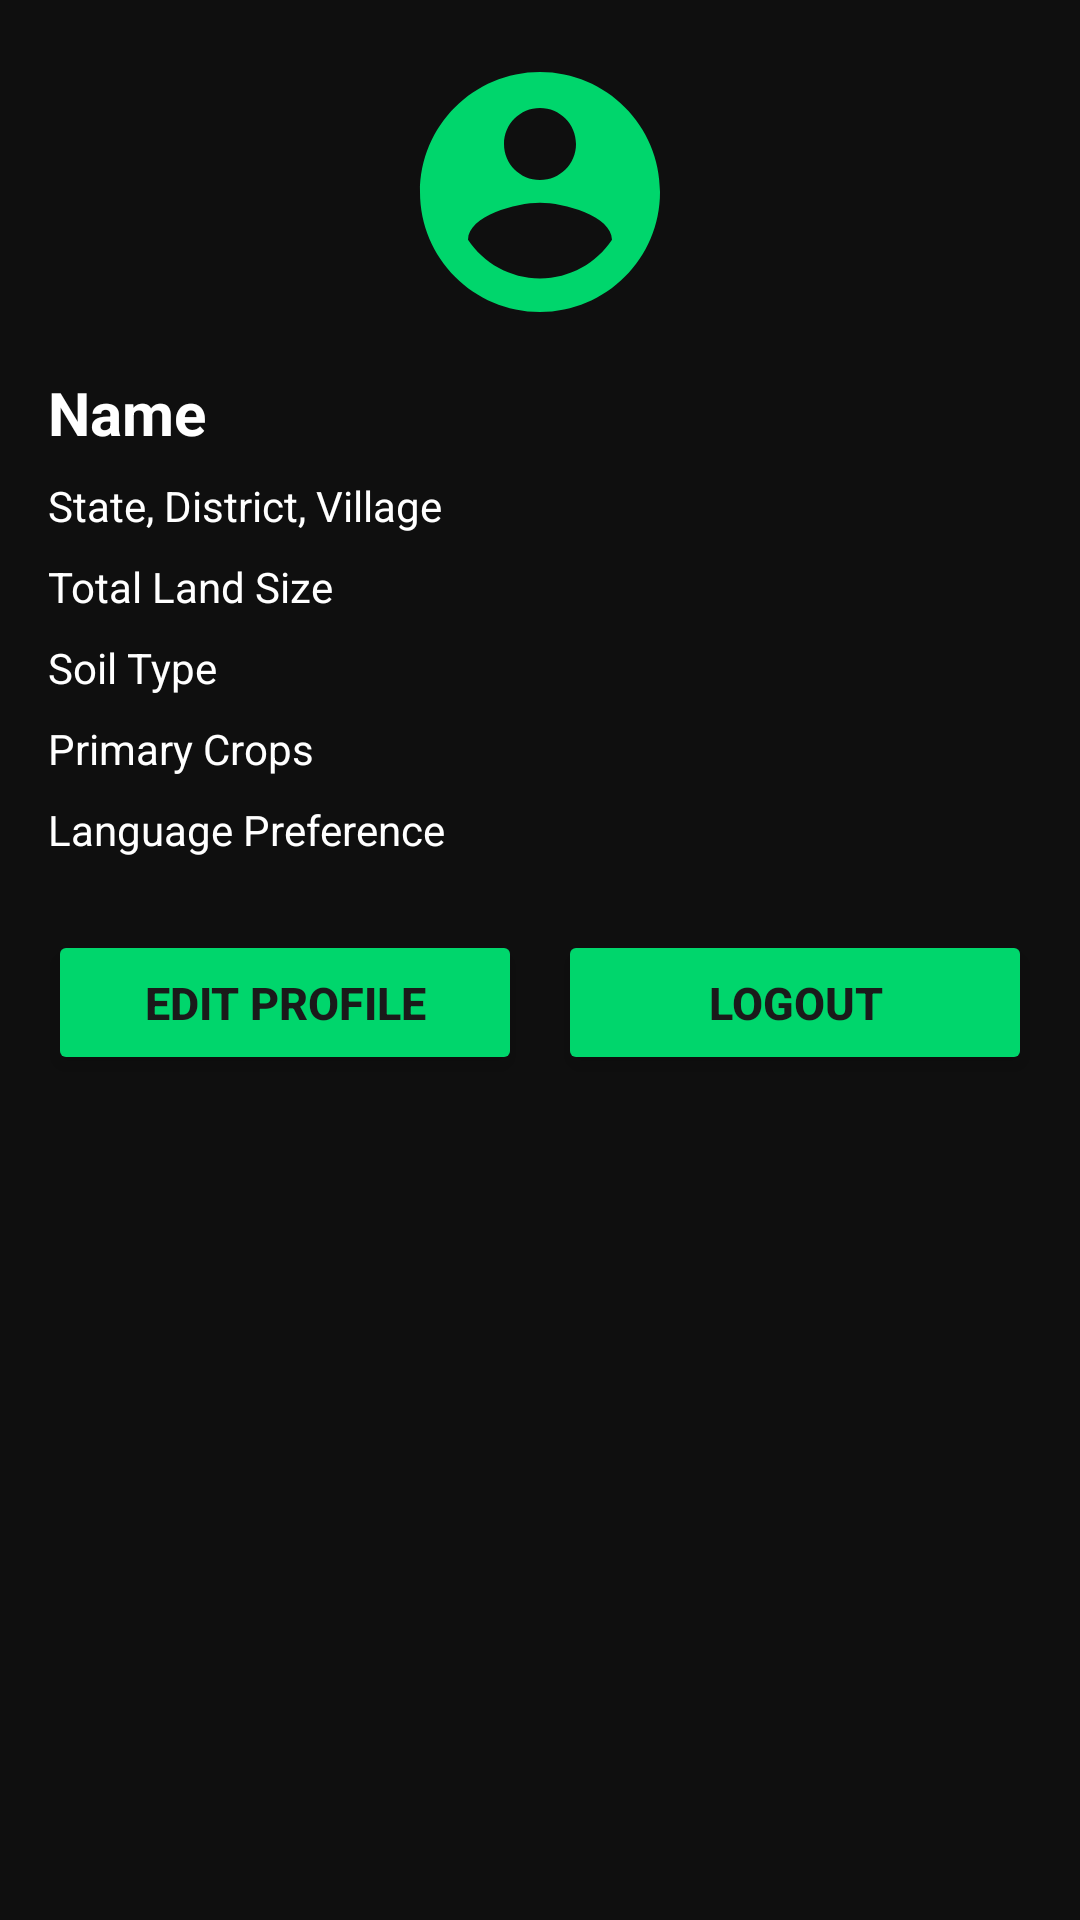

Icons on this 1080x1920 Android screen, each with its box as (x1, y1, x2, y2):
Profile avatar: (420, 72, 660, 312)
